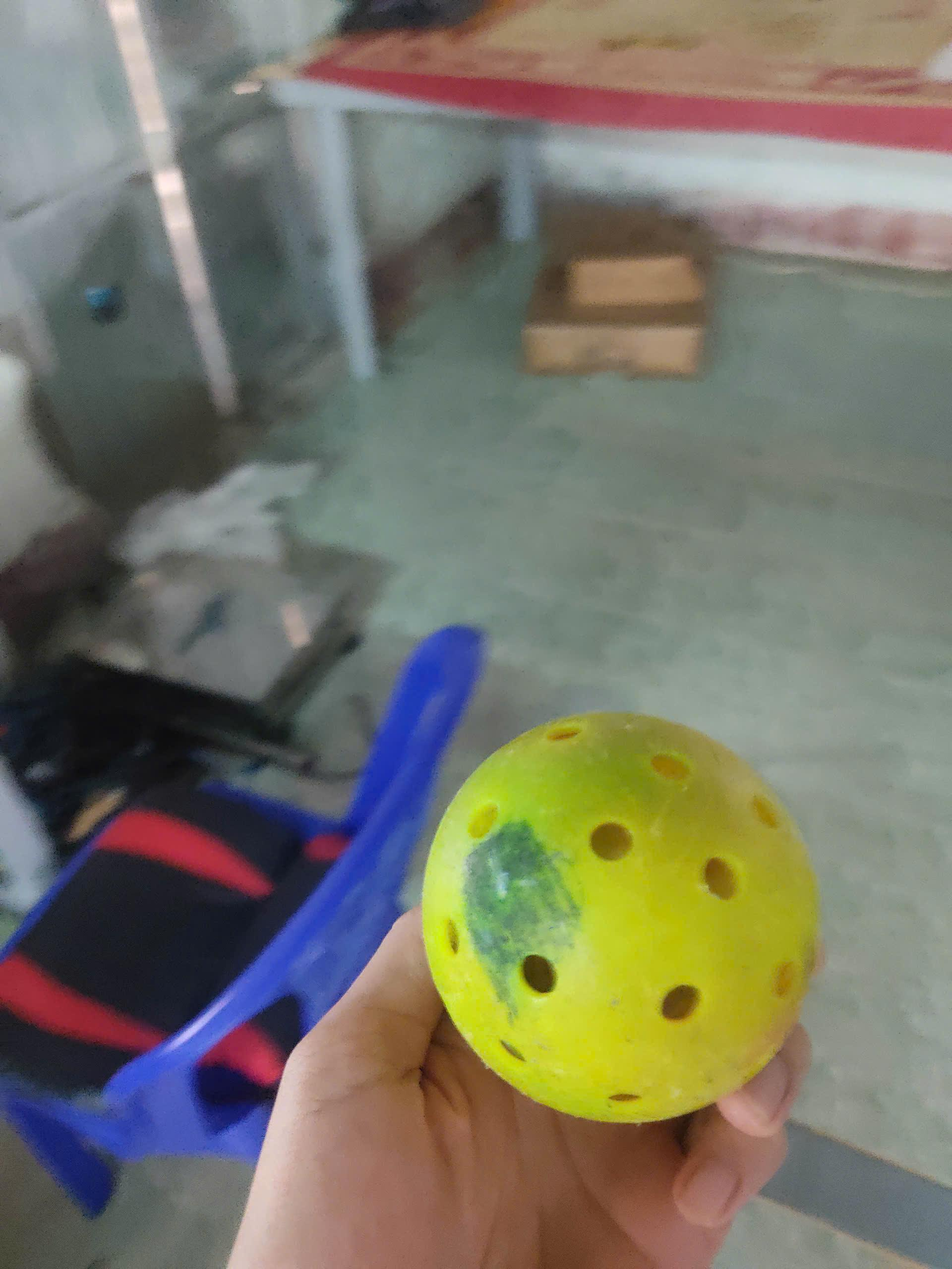ball: (407, 692, 838, 1139)
